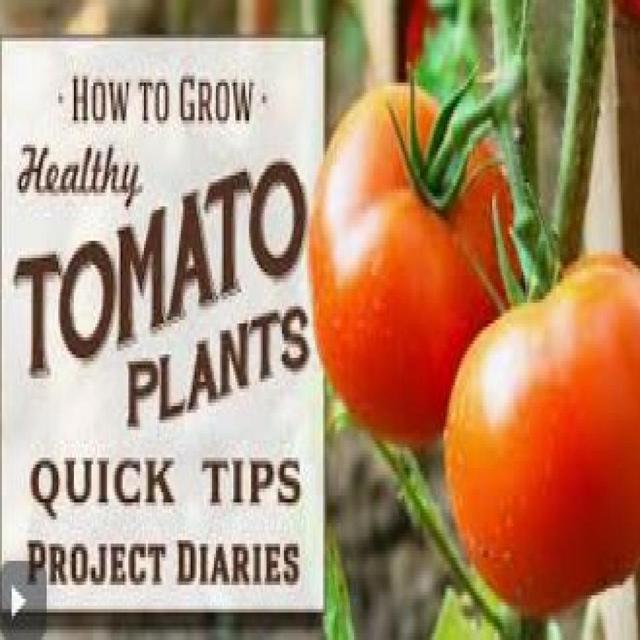Healthy Fruit: (126, 167, 363, 285)
